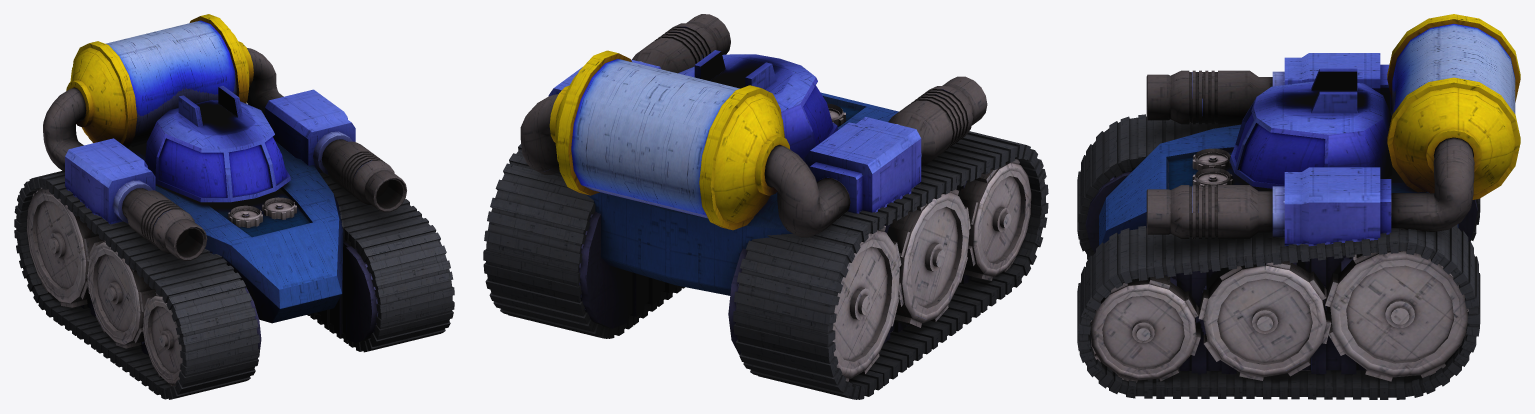
File: PlayerB0.obj
3 views of the same model, side by side, from view 1: azimuth 30°, elevation 25°; view 2: azimuth 150°, elevation 25°; view 3: azimuth 270°, elevation 25° (orthographic). The views are drawn at different scales.
Parts seen in each view (by area): view 1: Object001, Box042, Object004, Object003, Object002; view 2: Object001, Box042, Object003, Object004, Object002; view 3: Object001, Box042, Object004, Object003, Object002.
Part boxes in pixels (<box>): Object001: <box>43,14,406,358</box>; Box042: <box>14,171,454,399</box>; Object004: <box>26,187,101,307</box>; Object003: <box>86,240,156,348</box>; Object002: <box>142,292,182,386</box>; Object001: <box>520,14,987,355</box>; Box042: <box>483,131,1048,399</box>; Object003: <box>887,189,970,327</box>; Object004: <box>832,225,901,381</box>; Object002: <box>958,159,1031,280</box>; Object001: <box>1085,14,1520,374</box>; Box042: <box>1077,114,1480,399</box>; Object004: <box>1325,251,1468,381</box>; Object003: <box>1198,261,1331,380</box>; Object002: <box>1090,275,1200,382</box>.
Bounding box in the file's own units: 121 × 100 × 147.
2 materials, 2 textured.
